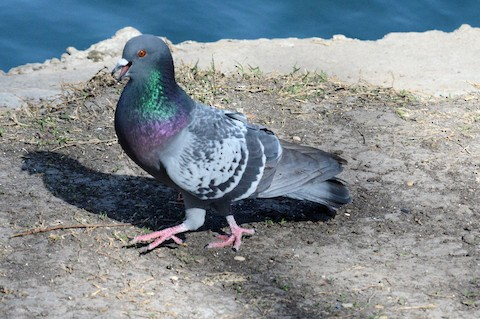pigeon: (105, 30, 355, 259)
